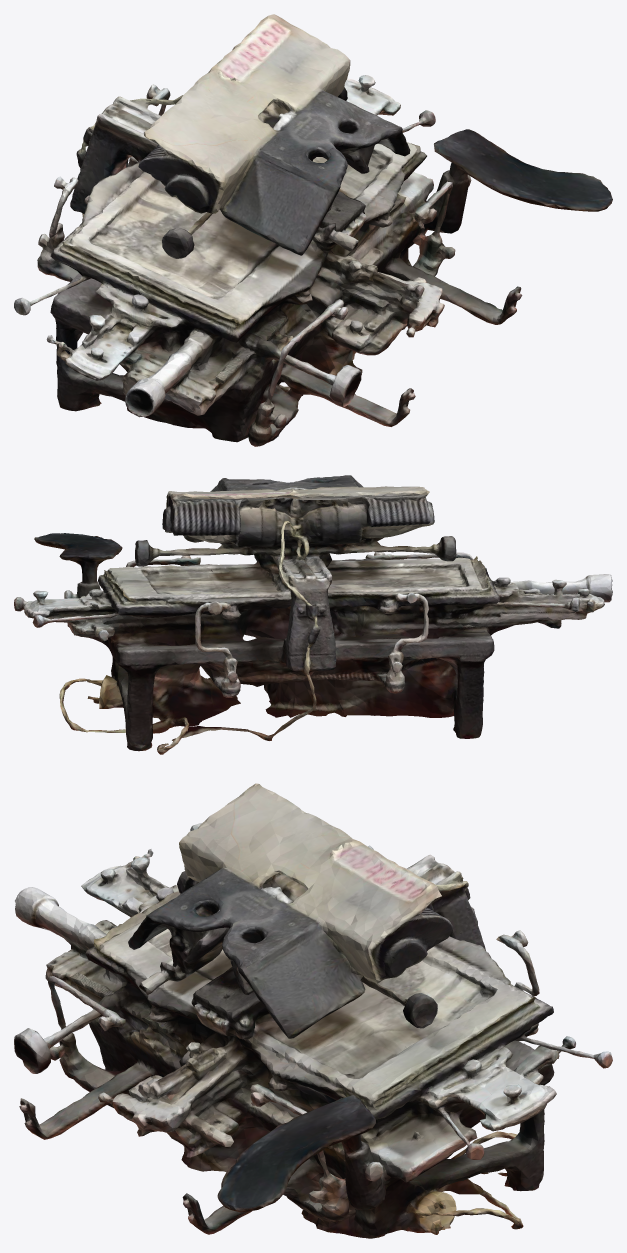
3 views of the same model, one above another, from view 1: azimuth 30°, elevation 25°; view 2: azimuth 150°, elevation 25°; view 3: azimuth 270°, elevation 25° (orthographic). The views are drawn at different scales.
Visible parts, largest first — view 1: Mesh_0.004; view 2: Mesh_0.004; view 3: Mesh_0.004.
Part boxes in pixels (x1,y1,x2,y2): Mesh_0.004: (14, 14, 612, 446); Mesh_0.004: (14, 475, 612, 754); Mesh_0.004: (14, 783, 612, 1238).
Bounding box in the file's own units: 1.35 × 0.567 × 1.05.
1 material, 1 textured.
